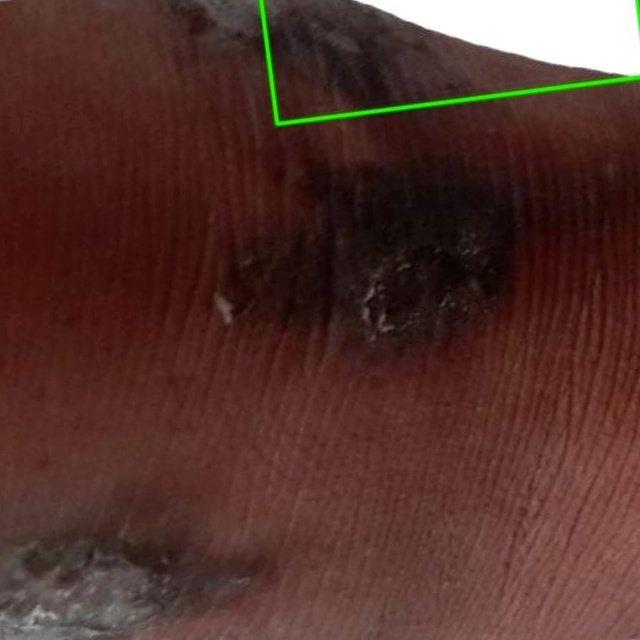Contact Dermatitis: (261, 0, 639, 123)
